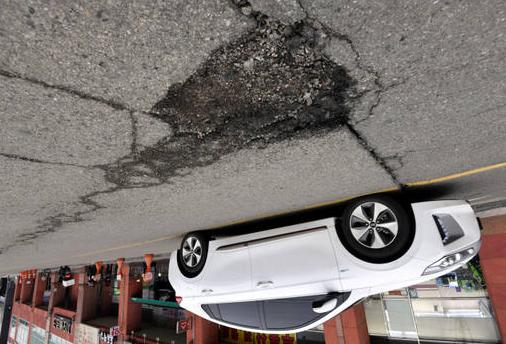pothole: (155, 19, 352, 162)
